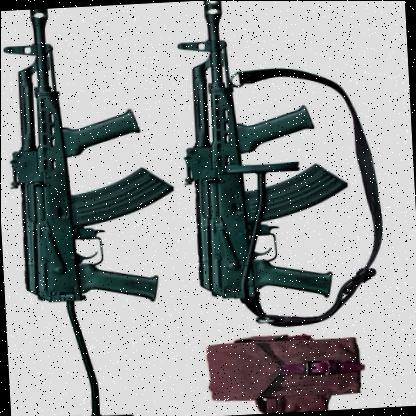rifle: (0, 2, 188, 395), (181, 0, 358, 332)
